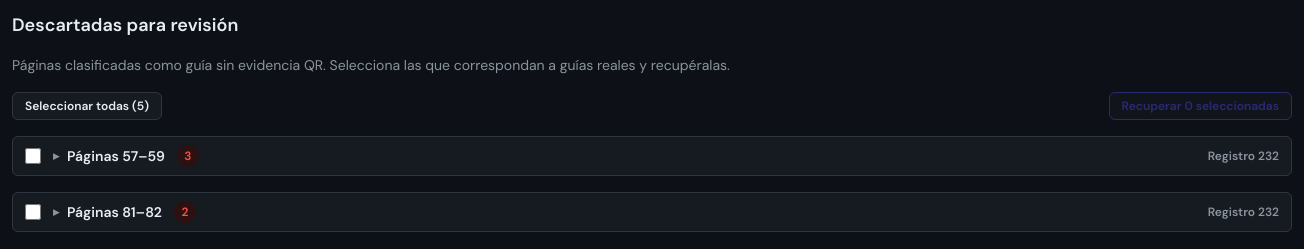
Scenario: DescartadasTab — A3 selection (per-page, tri-state group, global) › global control toggles back to deselect all
The width and height of the screenshot is (1304, 249).
Click the button with class "descartadas-tab__select-all": (87, 106) [12, 92, 162, 120]
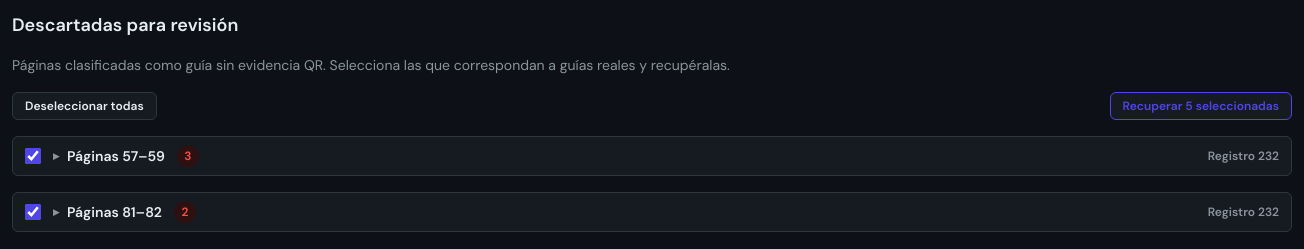
Expected: the button with class "descartadas-tab__bulk-btn" shows "5", [1110, 92, 1292, 120]
Click the button with class "descartadas-tab__select-all": (84, 106) [12, 92, 157, 120]
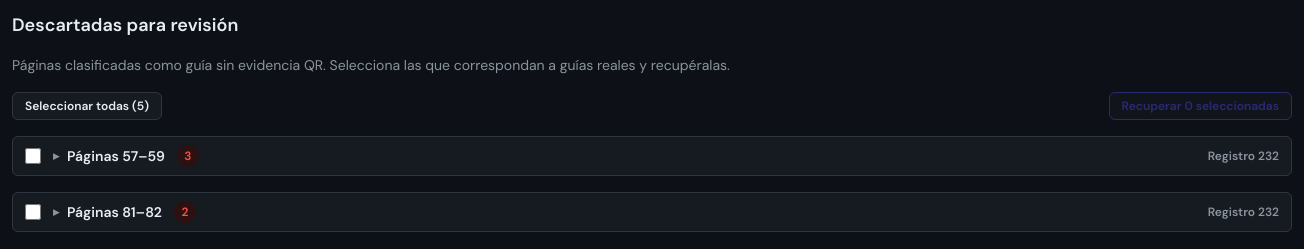
Expected: the button with class "descartadas-tab__bulk-btn" is disabled, [1109, 92, 1292, 120]
Expected: the 1st checkbox with class "descartadas-tab__group-checkbox" is not checked, [25, 148, 41, 164]
Expected: the 2nd checkbox with class "descartadas-tab__group-checkbox" is not checked, [25, 204, 41, 220]
